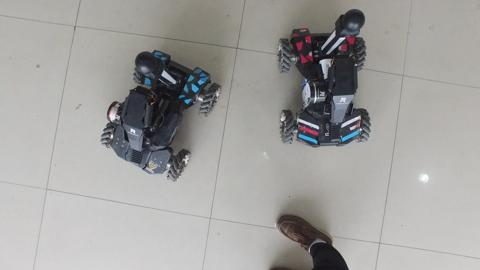chariot: (95, 43, 227, 198), (275, 4, 381, 155)
